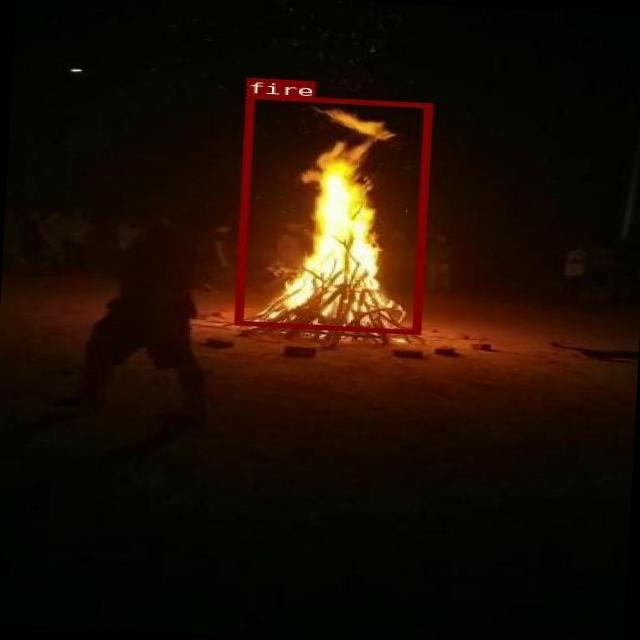fire: (234, 94, 431, 334)
